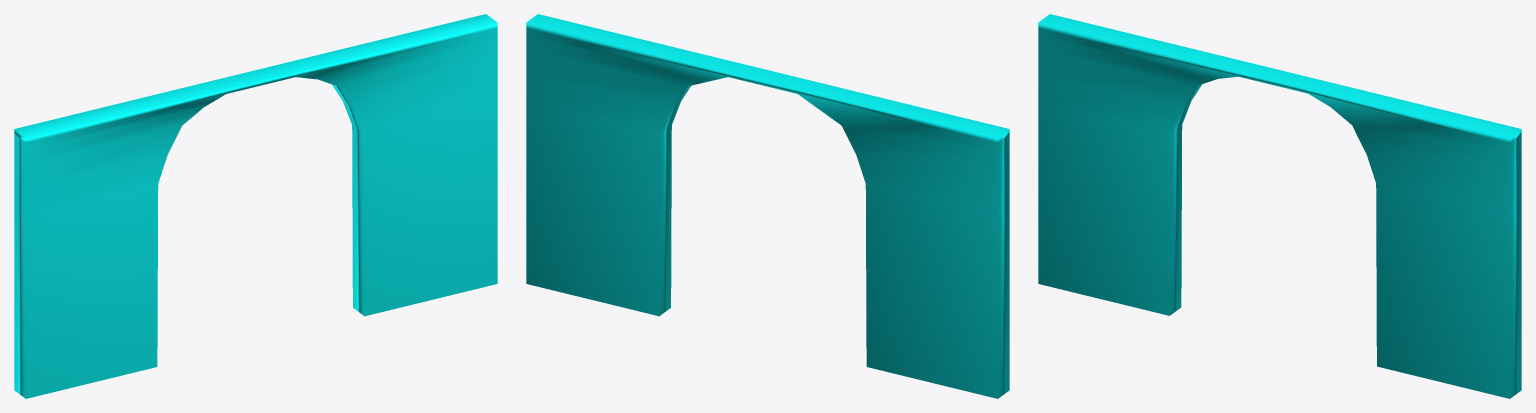
The model's file is Doorframe.fbx.
The picture shows the model from 3 angles, left to right: view 1: azimuth 30°, elevation 25°; view 2: azimuth 150°, elevation 25°; view 3: azimuth 330°, elevation 25°; orthographic projection.
Visible parts, largest first — view 1: Doorframe; view 2: Doorframe; view 3: Doorframe.
Part boxes in pixels (box(x1,y1,x2,y2)): Doorframe: box(14, 14, 497, 398); Doorframe: box(526, 14, 1009, 398); Doorframe: box(1038, 14, 1521, 398).
Bounding box in the file's own units: 23.16 × 12.26 × 1.
